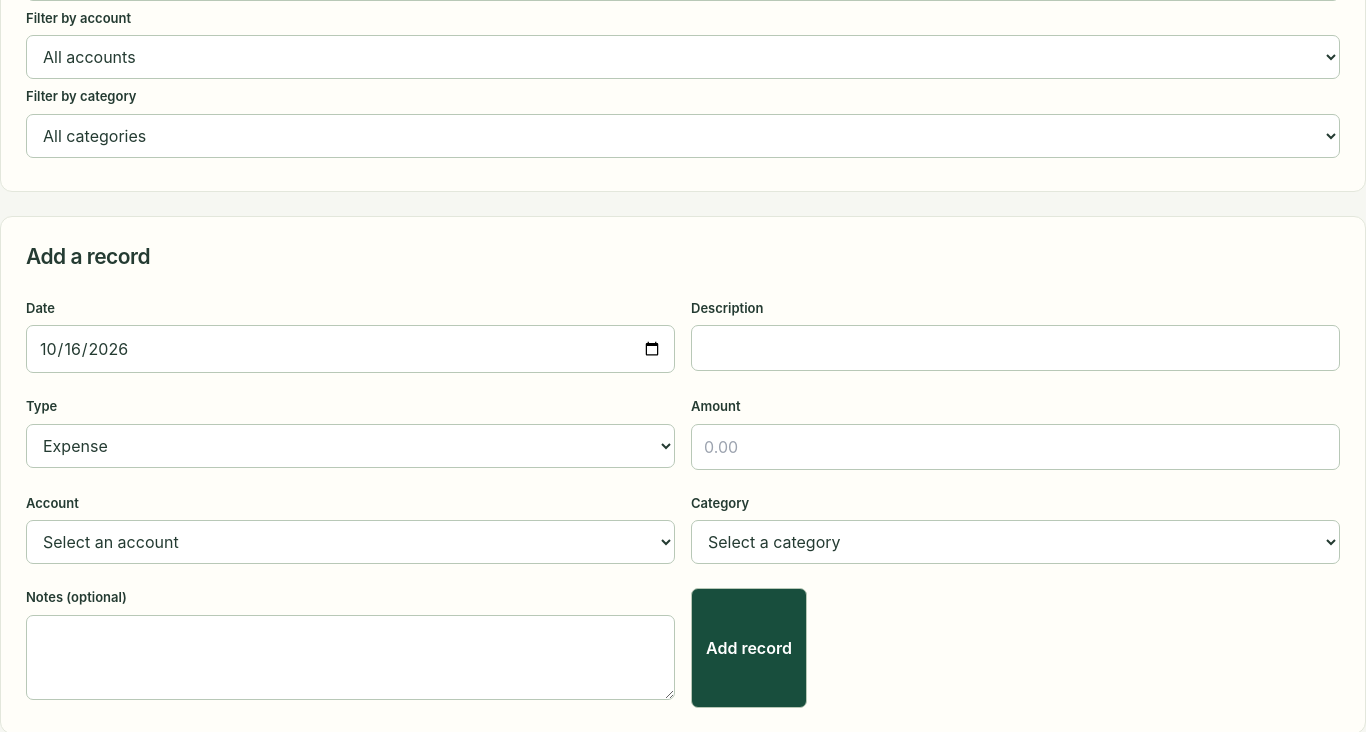
Test: RecordsPage: entry form, filters, edit, and delete › an income entry requires a category and a transfer requires a destination account with no category
(page scrolled)
Type "Paycheck" into the field labelled "Description" at (1016, 348), box [691,326,1340,372]
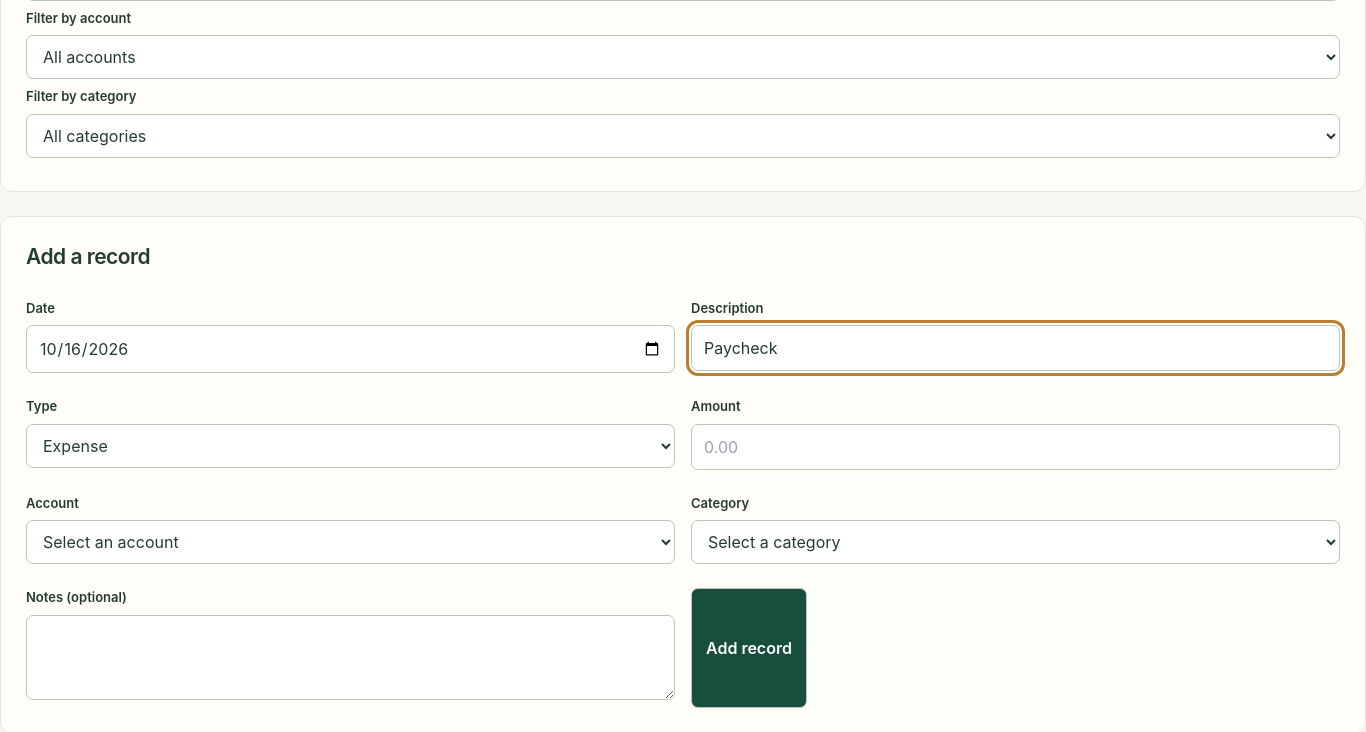
Select "Income" in the dropdown labelled "Type" at (350, 446), box [26,424,675,468]
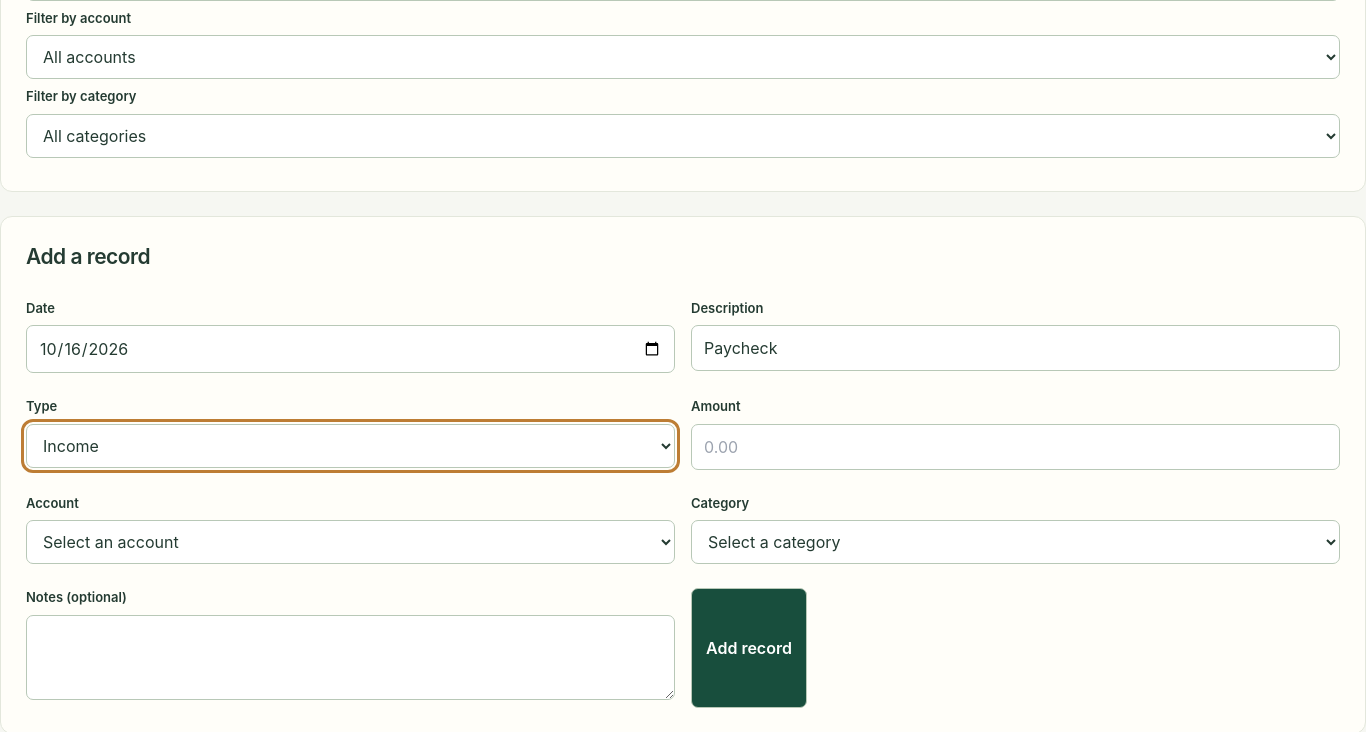
Type "500.00" into the field labelled "Amount" at (1016, 447), box [691,424,1340,470]
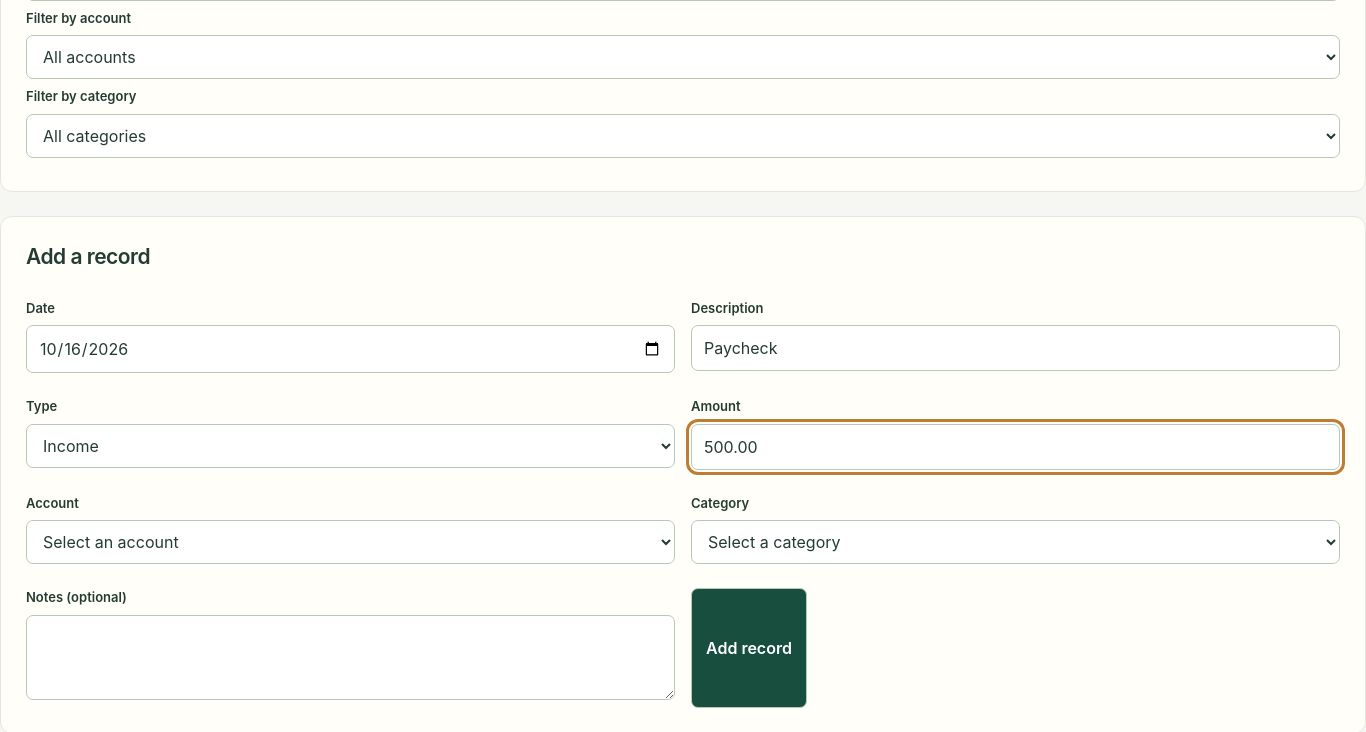
Select "Checking" in the dropdown labelled "Account" at (350, 542), box [26,520,675,564]
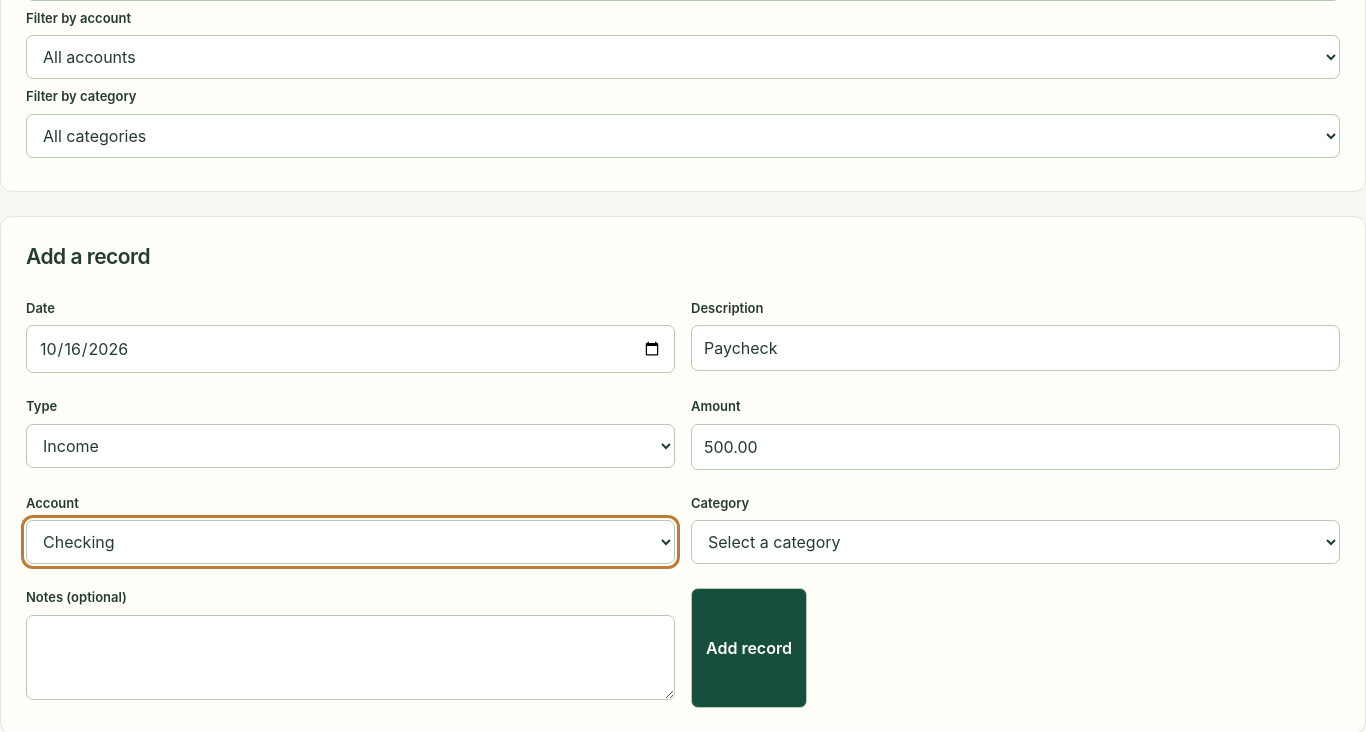
Expected: the dropdown labelled "Category" is shown, [691,520,1340,564]
Select "Transfer" in the dropdown labelled "Type" at (350, 446), box [26,424,675,468]
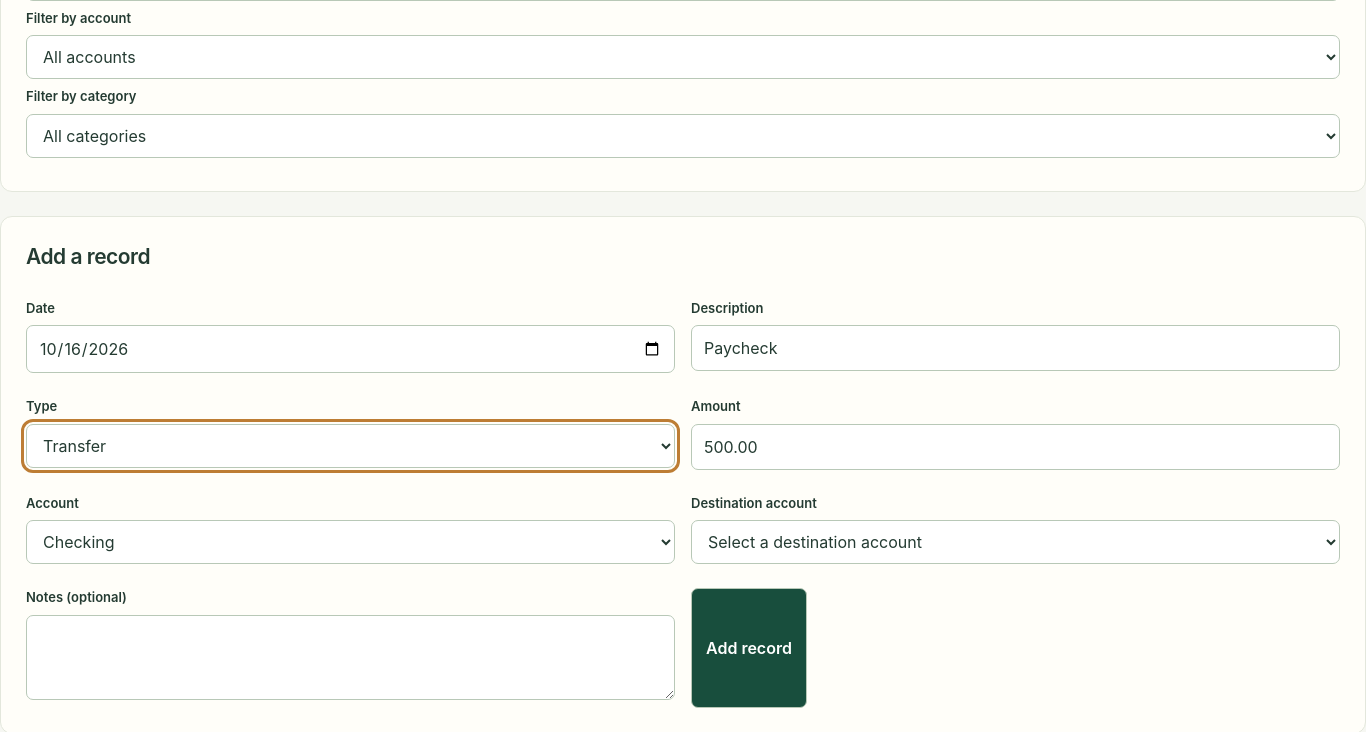
Expected: the dropdown labelled "Destination account" is shown, [691,520,1340,564]
